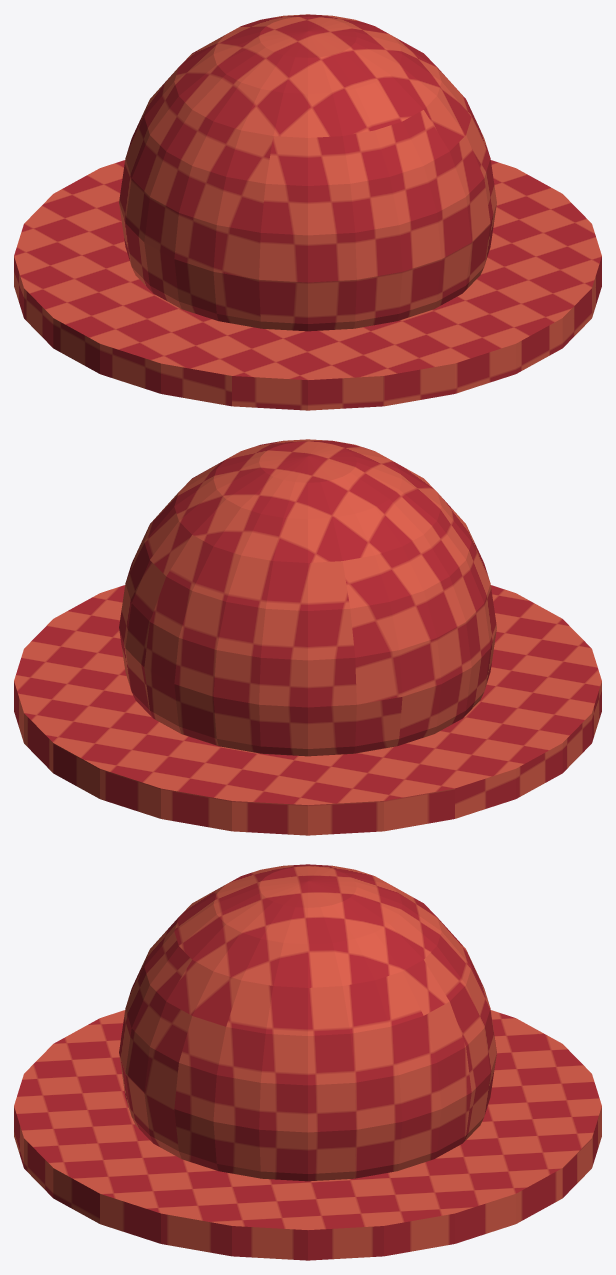
The model's file is accessory_hat_ok.glb.
3 views of the same model, one above another, from view 1: azimuth 30°, elevation 25°; view 2: azimuth 150°, elevation 25°; view 3: azimuth 270°, elevation 25° (orthographic).
Parts seen in each view (by area): view 1: accessory_hat_ok; view 2: accessory_hat_ok; view 3: accessory_hat_ok.
Part boxes in pixels (x1,y1,x2,y2): accessory_hat_ok: (14, 14, 601, 410); accessory_hat_ok: (14, 439, 601, 835); accessory_hat_ok: (14, 864, 601, 1260).
Size of the model in its own units: 1.4 by 0.9 by 1.4.
1 material, 1 textured.
